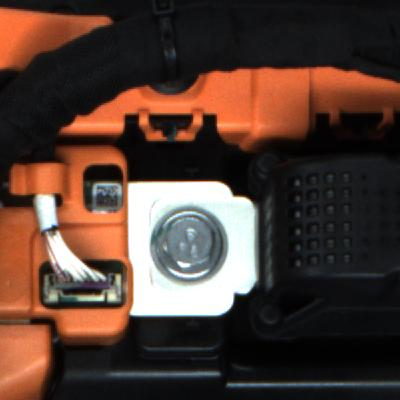nut_b: (143, 200, 235, 290)
